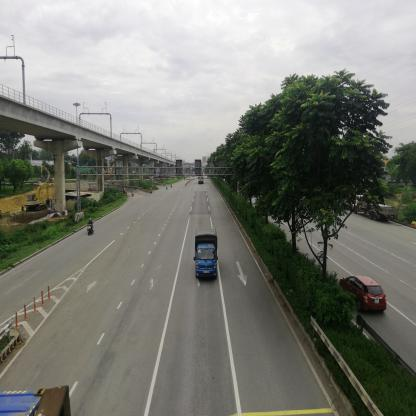car: (341, 272, 387, 319)
motorbike: (89, 219, 96, 237), (132, 191, 135, 196)
truck: (196, 230, 219, 282), (354, 196, 399, 222)
